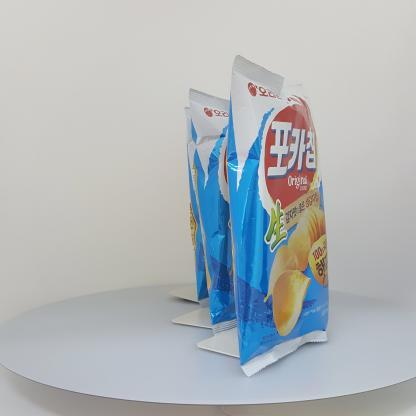Plastic Packaging: (218, 55, 326, 367)
